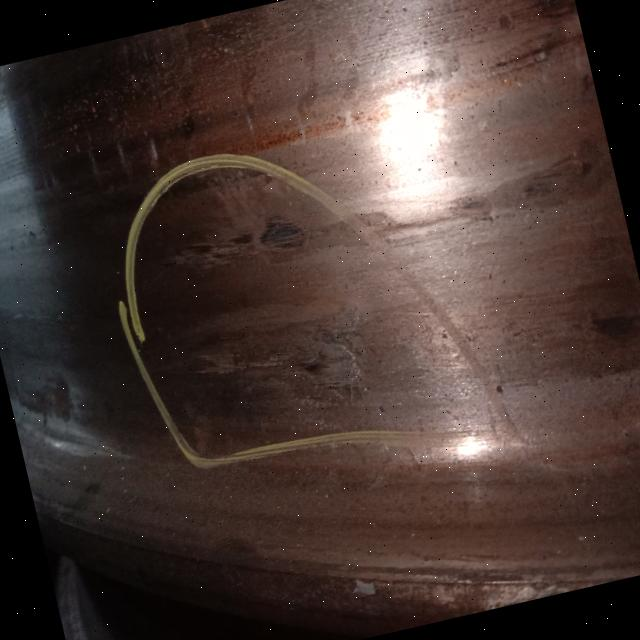flat: (176, 292, 401, 438), (156, 200, 324, 319)
